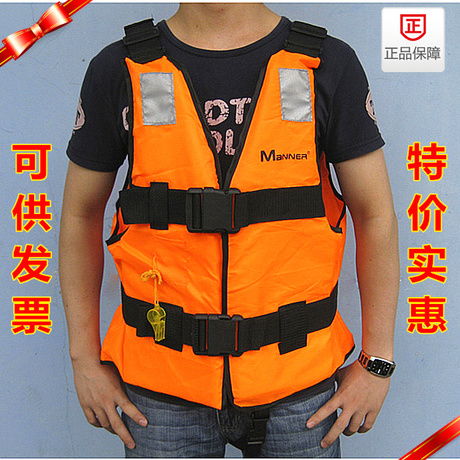reflective_clothes: (107, 11, 360, 408)
